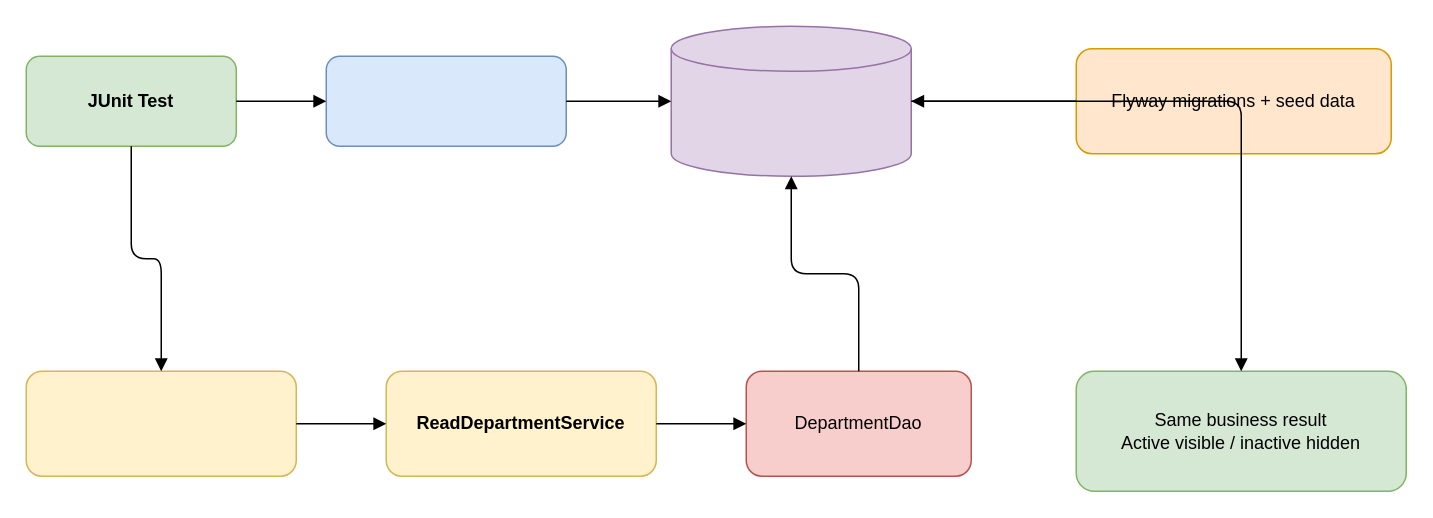
The diagram is 1433 pixels wide and 518 high, and some of its shapes have lost their labels. The box of each missing label's shape, as (x1, y1, x2, y2) in pixels:
PostgreSQL 18 Container: (670, 25, 911, 176)
Spring Boot Test Context: (25, 370, 296, 476)
Testcontainers: (325, 55, 566, 146)
